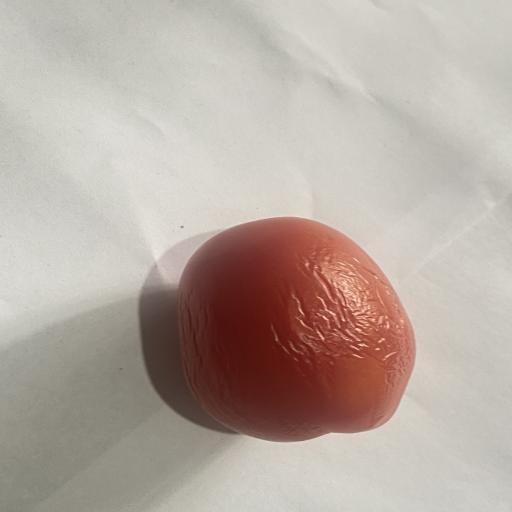spoiled: (178, 217, 415, 442)
